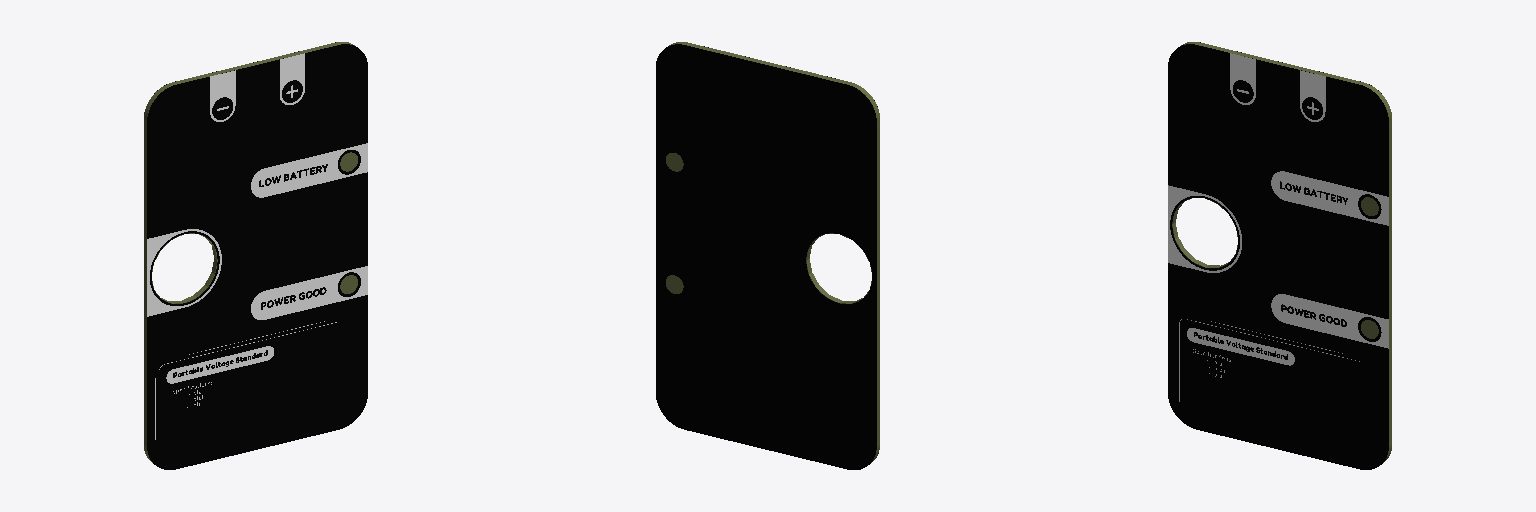
The model's file is PVS_FrontPanel.obj.
The picture shows the model from 3 angles: view 1: azimuth 30°, elevation 25°; view 2: azimuth 150°, elevation 25°; view 3: azimuth 330°, elevation 25°; orthographic projection.
Parts seen in each view (by area): view 1: Object.4, Object.7, Object.2, Object.1; view 2: Object.6, Object.2, Object.1; view 3: Object.4, Object.7, Object.2, Object.1.
Boxes of the visible parts, x1,y1,x2,y2 form: Object.4: [147, 44, 367, 469]; Object.7: [147, 53, 367, 439]; Object.2: [144, 42, 354, 462]; Object.1: [148, 46, 357, 303]; Object.6: [656, 44, 876, 469]; Object.2: [669, 42, 879, 462]; Object.1: [666, 44, 876, 457]; Object.4: [1168, 44, 1388, 469]; Object.7: [1168, 53, 1388, 401]; Object.2: [1172, 42, 1391, 462]; Object.1: [1172, 46, 1387, 338].
Bounding box in the file's own units: 60.4 × 100 × 1.69.